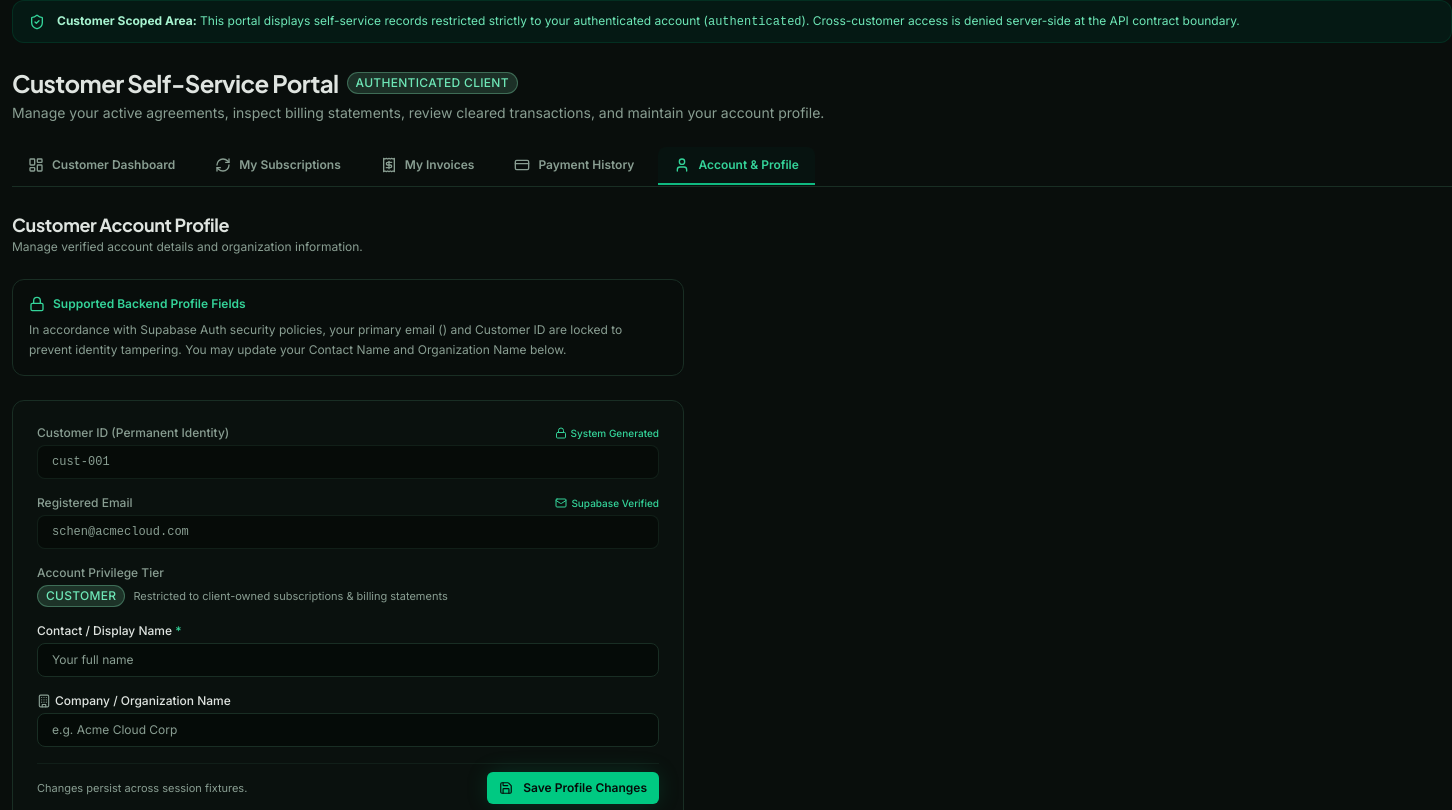
Test: CustomerPortalPage › navigates to Account & Profile tab and updates contact details
The image size is (1452, 810).
Expected: the heading "Customer Account Profile" is shown, [12,213,229,236]
Expected: the text "Supported Backend Profile Fields" is shown, [29,296,246,312]
In the field with placeholder "Your full name": [348, 660] box [37,643,659,677], type "Sarah Chen-Updated"
(page scrolled)
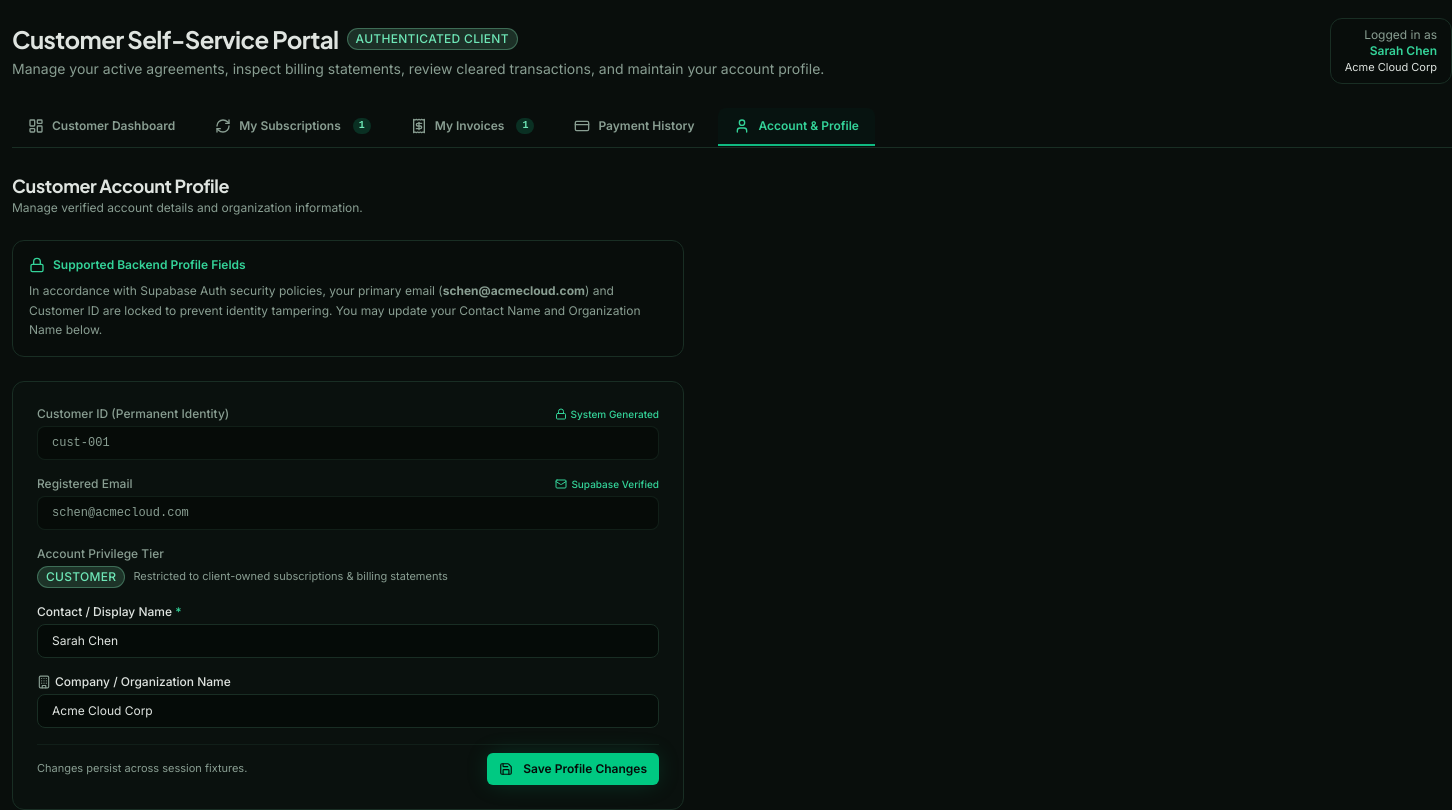
Click the button "Save Profile Changes": [573, 768] box [487,752,659,784]
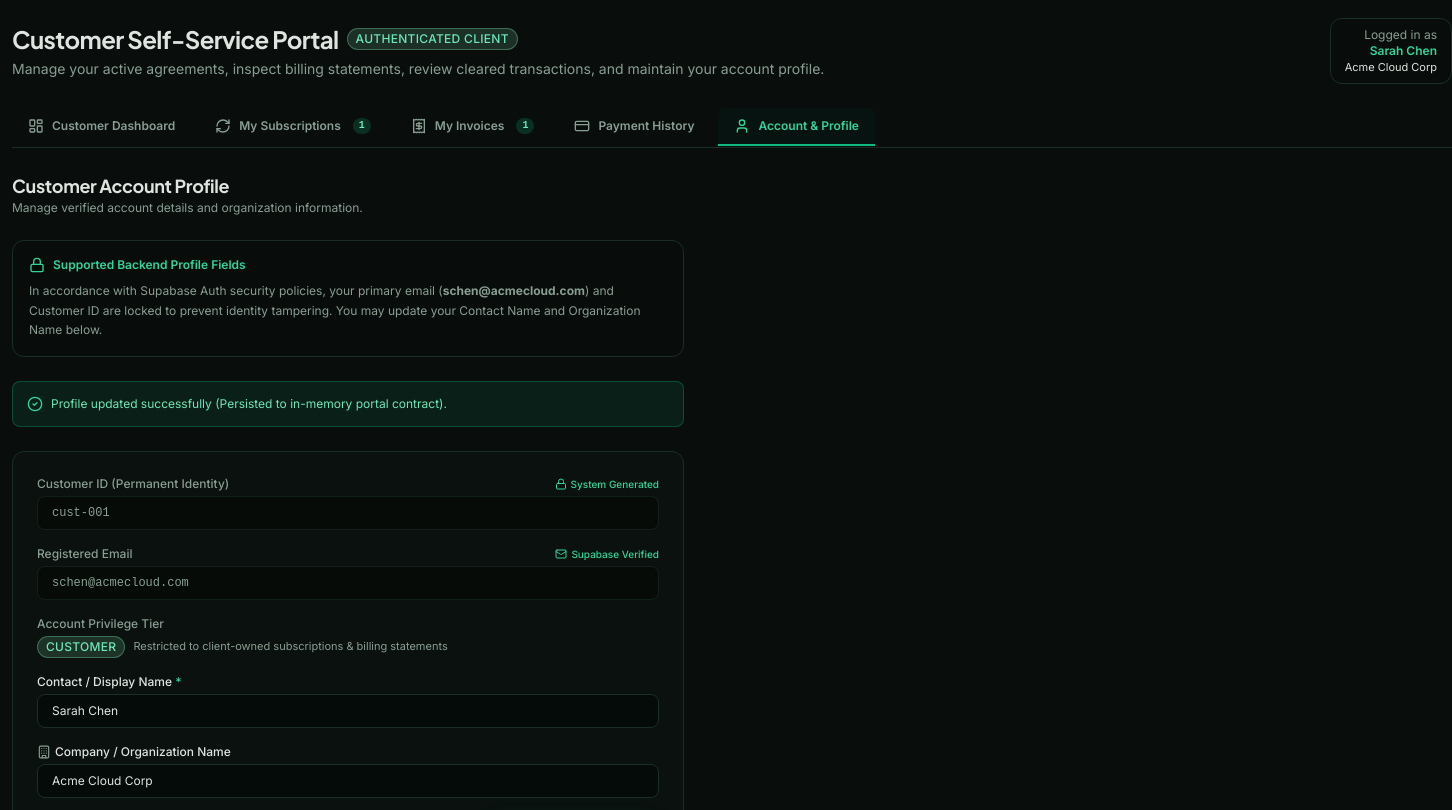
Expected: the text "Profile updated successfully" is shown, [51,396,447,410]
